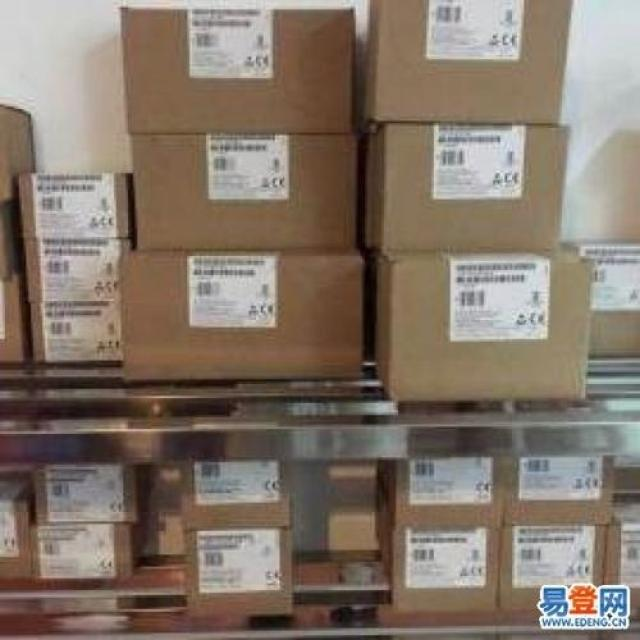box: (378, 251, 591, 402), (120, 0, 353, 136), (123, 251, 366, 380), (132, 136, 360, 251), (366, 0, 573, 124), (369, 124, 571, 251), (498, 524, 604, 611), (390, 530, 499, 613), (396, 456, 515, 531), (187, 529, 293, 613), (564, 241, 640, 357), (183, 460, 294, 534), (18, 172, 134, 239), (23, 238, 137, 305), (507, 457, 614, 526), (32, 463, 138, 524), (31, 525, 137, 586), (29, 301, 124, 361), (0, 105, 35, 238), (602, 497, 640, 617), (0, 239, 31, 365), (0, 472, 32, 580)
